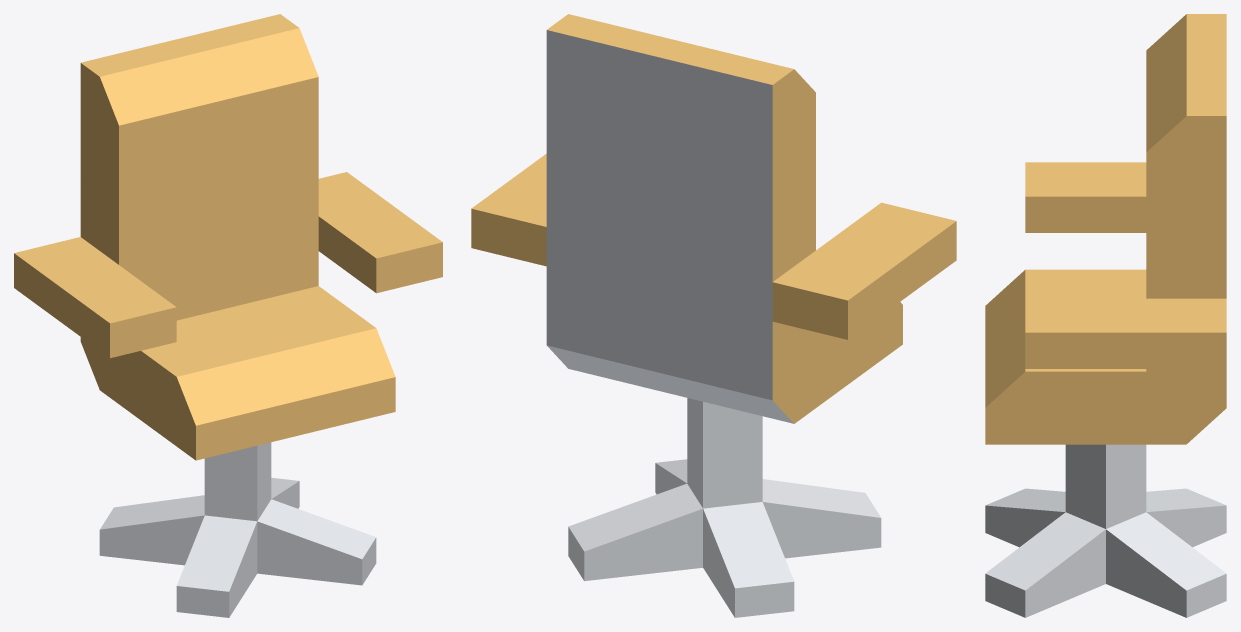
File: desk_chairArms.glb
3 renders of one model, left to right at view 1: azimuth 30°, elevation 25°; view 2: azimuth 150°, elevation 25°; view 3: azimuth 270°, elevation 25°, orthographic. The views are drawn at different scales.
Visible parts, largest first — view 1: desk_chairArms; view 2: desk_chairArms; view 3: desk_chairArms.
Part boxes in pixels (<box>): desk_chairArms: <box>14,14,442,617</box>; desk_chairArms: <box>471,14,956,617</box>; desk_chairArms: <box>985,14,1226,617</box>.
Size of the model in its own units: 0.25 by 0.3438 by 0.15.
